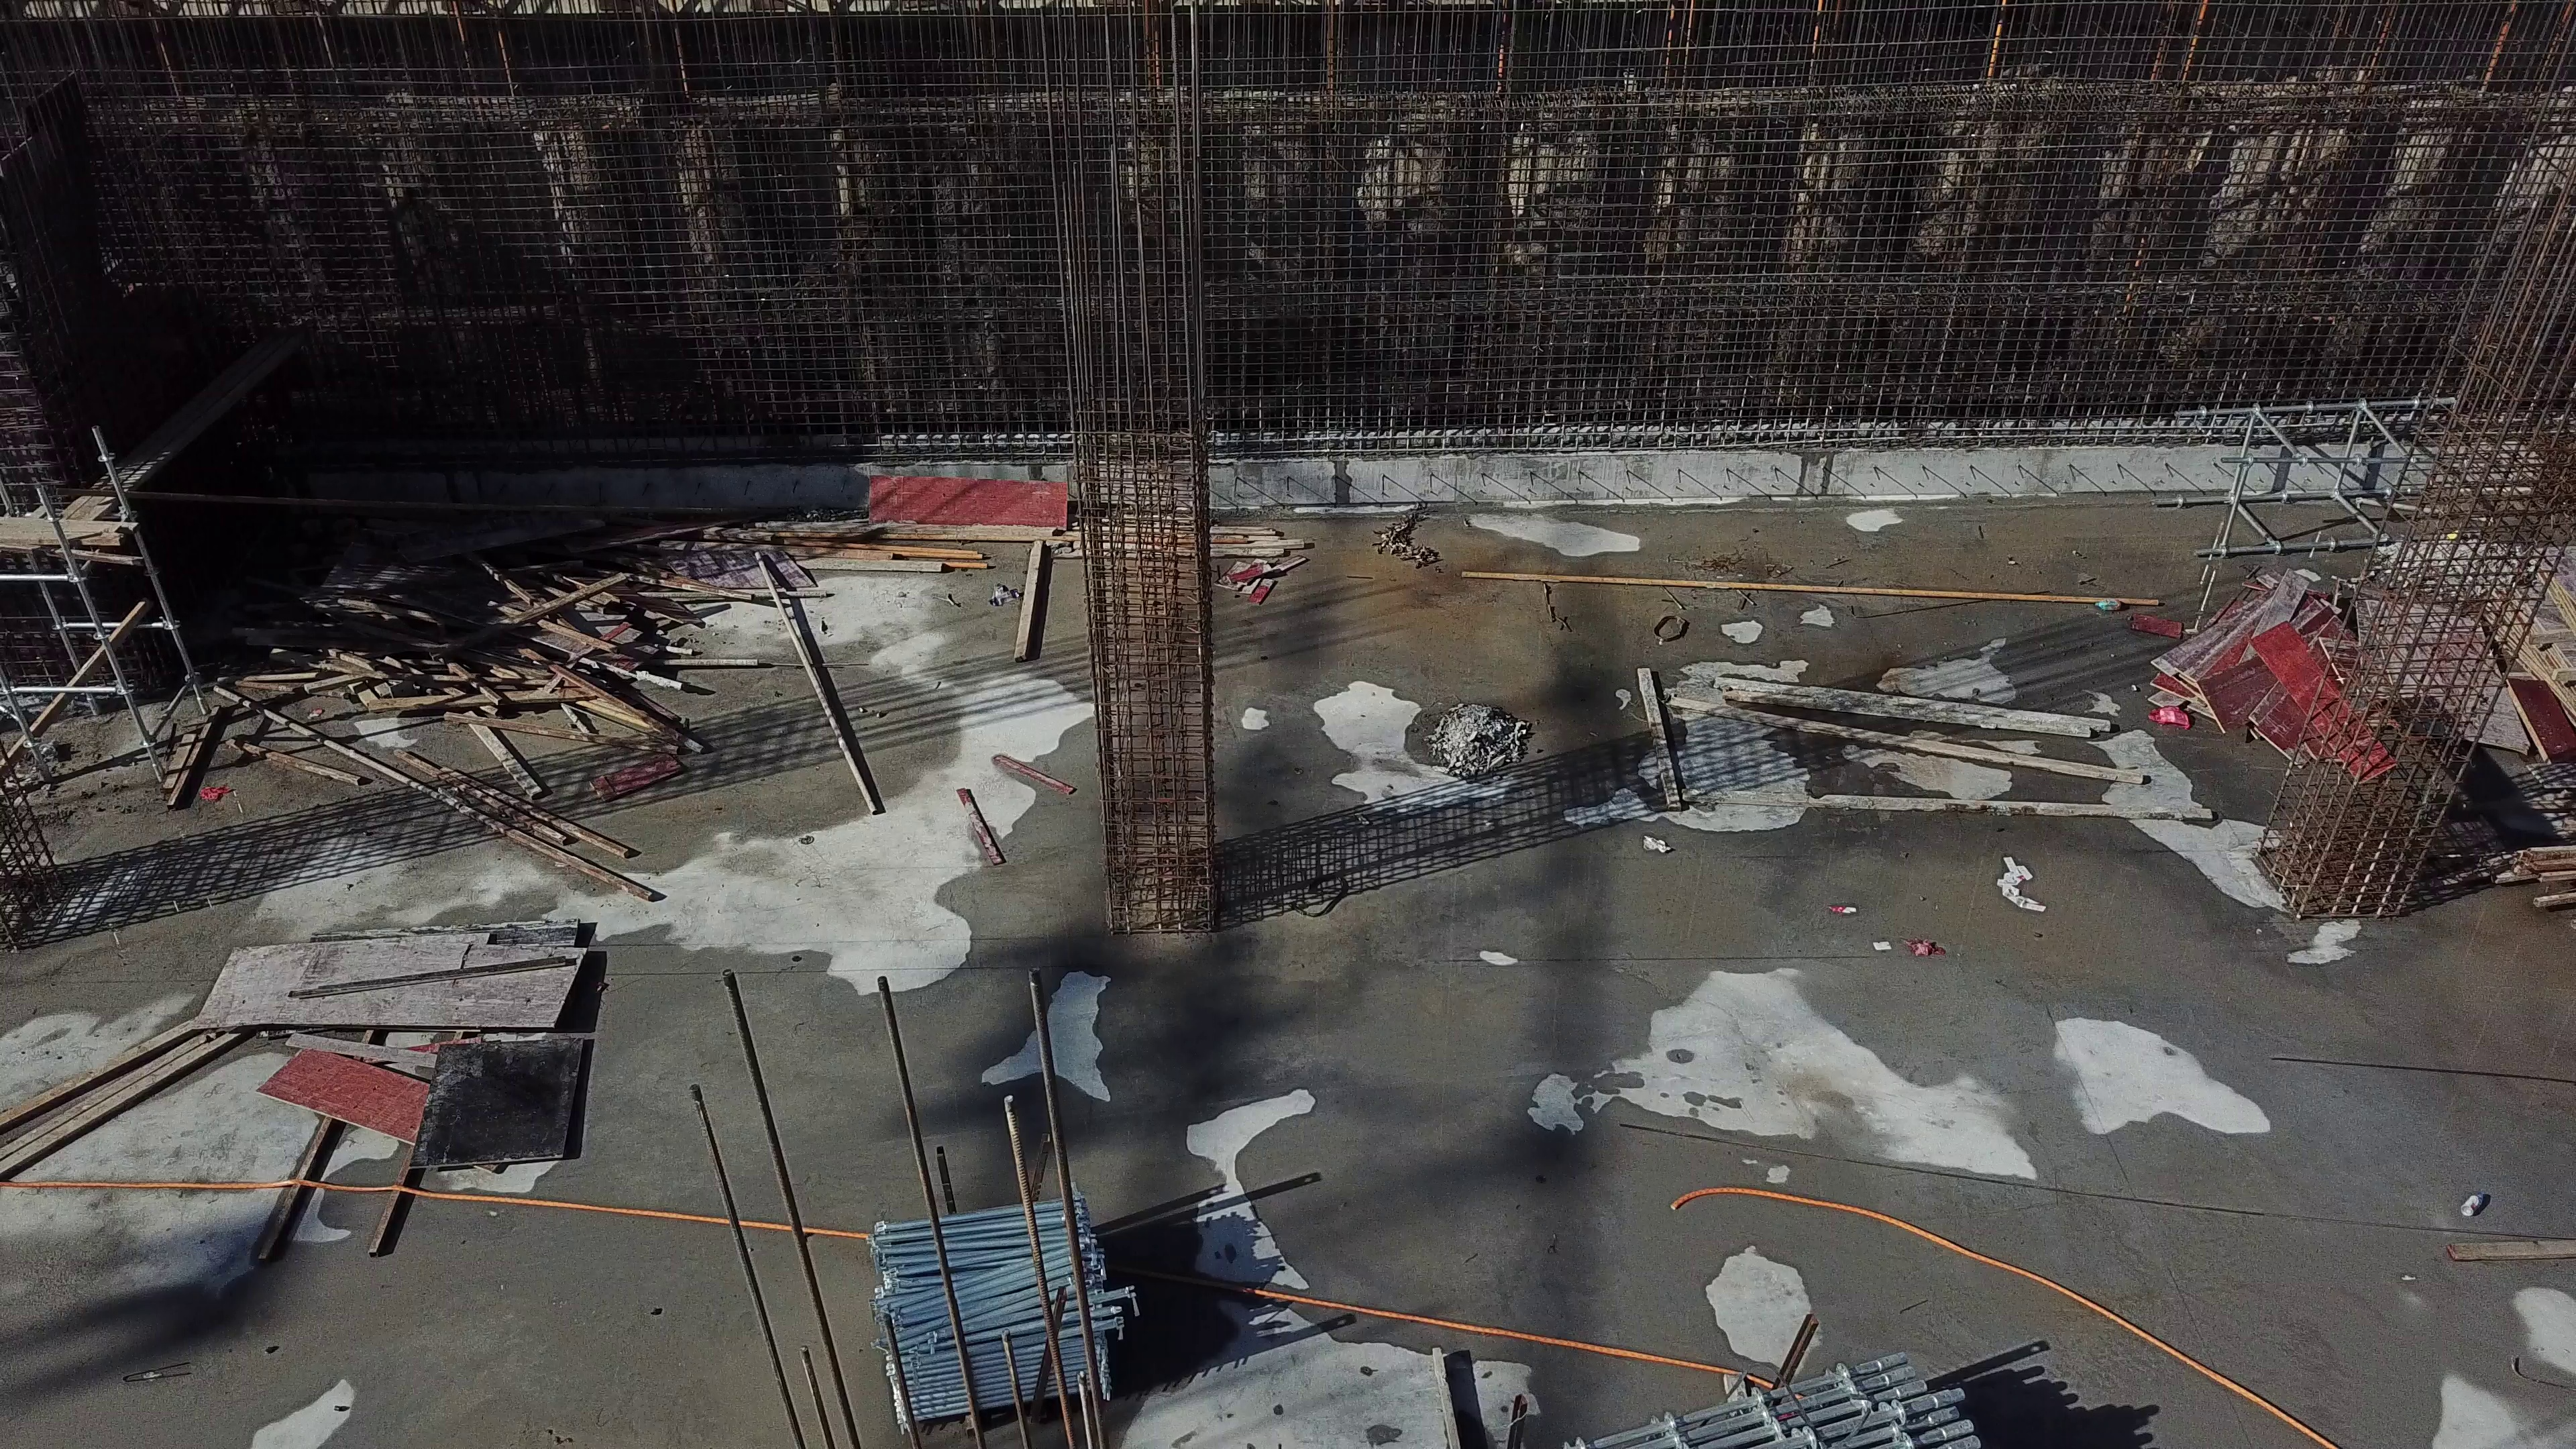scaffold: (869, 1192, 1129, 1435), (1543, 1346, 2012, 1447)
